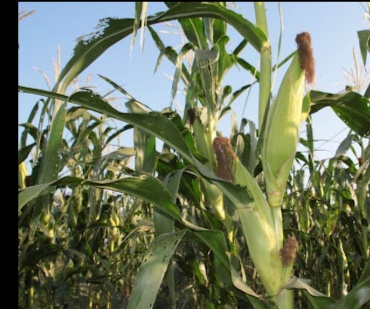corn_plant: (212, 137, 285, 297), (270, 30, 316, 207)
